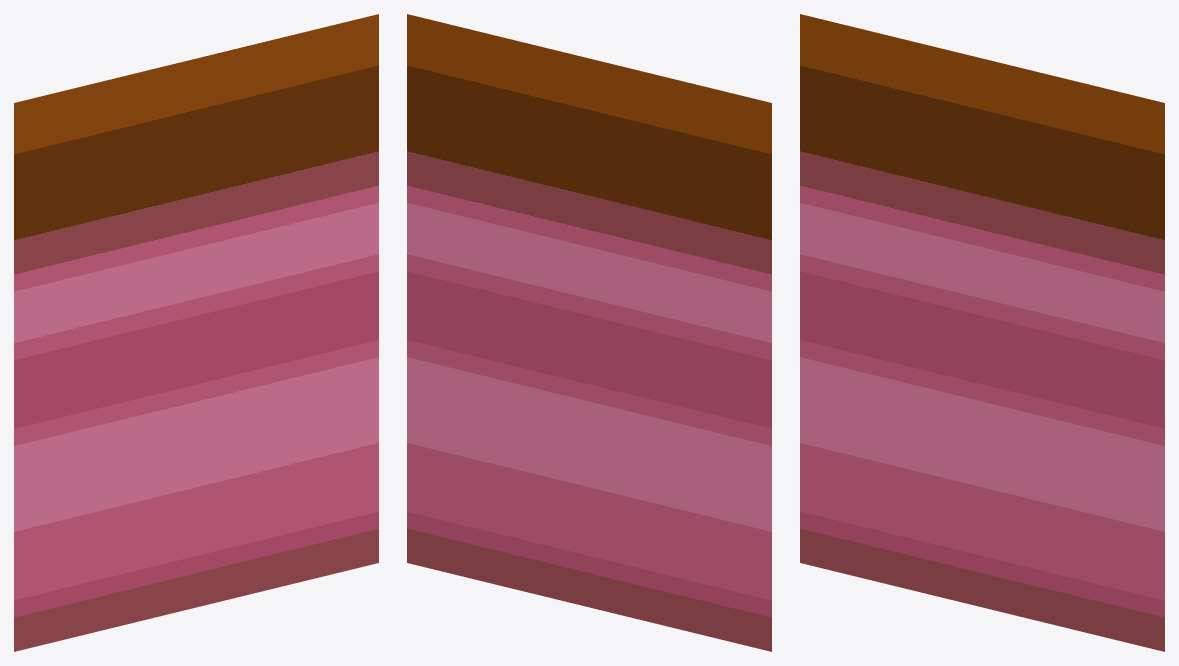
3 views of the same model, side by side, from view 1: azimuth 30°, elevation 25°; view 2: azimuth 150°, elevation 25°; view 3: azimuth 330°, elevation 25° (orthographic).
Size of the model in its own units: 1 by 1.44 by 0.
1 material, 1 textured.
